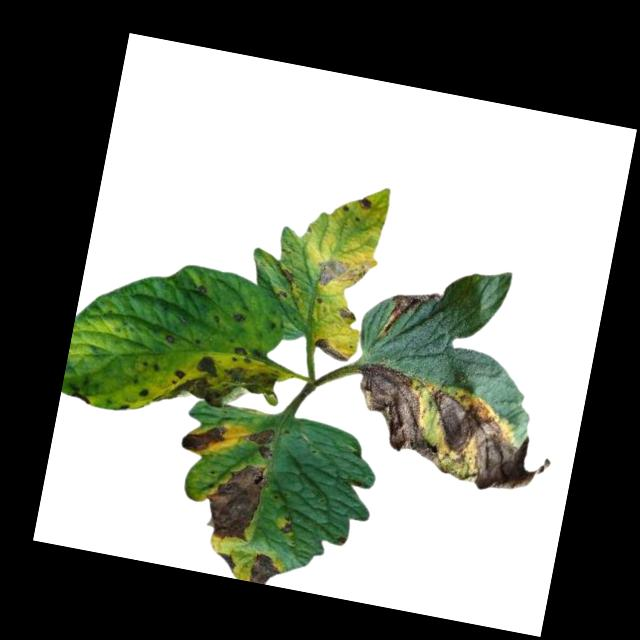Early_blight: (344, 361, 562, 501), (168, 350, 284, 419), (199, 455, 268, 546), (377, 285, 444, 349), (315, 256, 374, 295), (179, 419, 228, 458), (248, 551, 282, 586), (247, 425, 279, 461), (312, 336, 350, 365), (214, 550, 239, 573), (335, 306, 357, 325), (353, 195, 374, 214), (277, 267, 296, 287), (279, 516, 296, 537), (70, 391, 91, 407), (232, 346, 250, 361), (232, 313, 249, 326), (137, 387, 150, 401), (162, 333, 177, 345)
